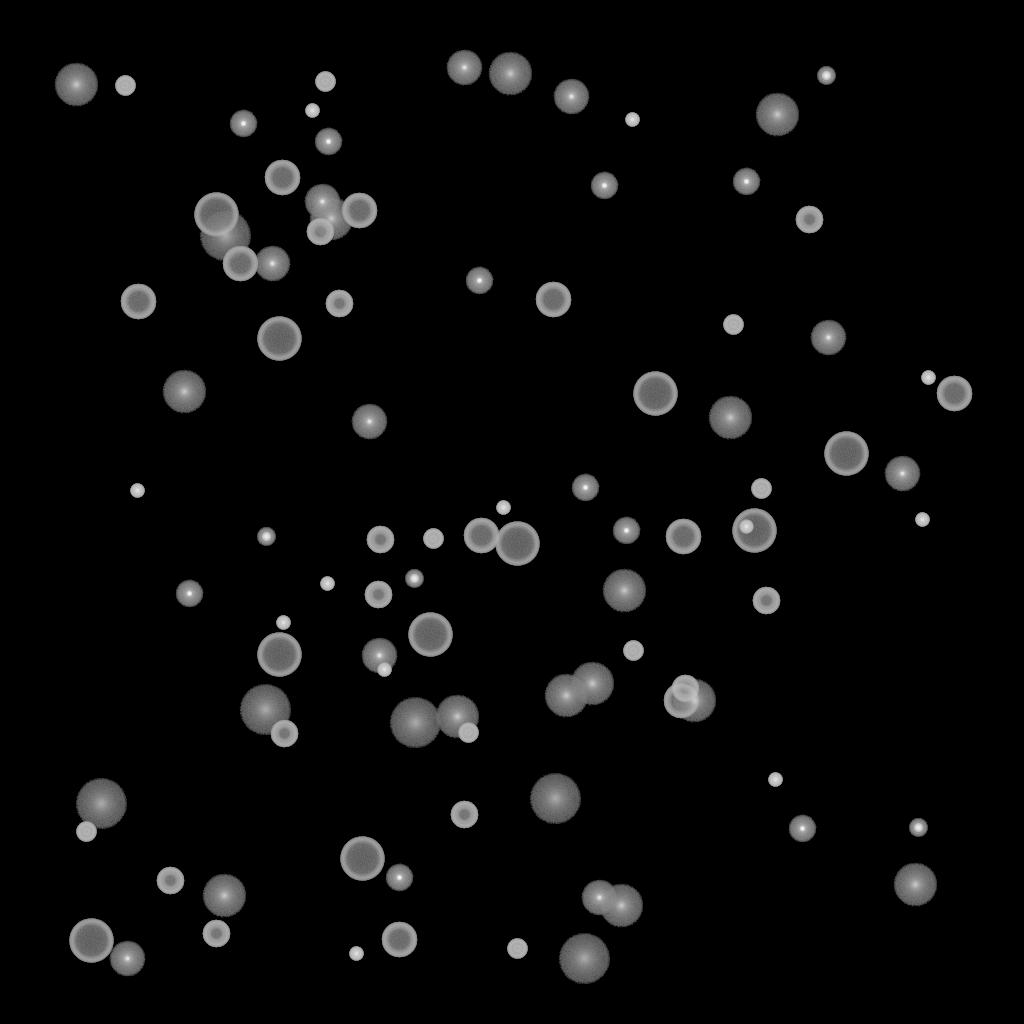depth:-10: (732, 168, 760, 196), (571, 474, 599, 502), (590, 172, 618, 200), (175, 580, 203, 608), (385, 864, 413, 892), (465, 267, 493, 295), (612, 517, 640, 545), (788, 815, 816, 843), (314, 128, 342, 156), (229, 110, 257, 138)
depth:-20: (405, 570, 423, 588), (909, 819, 927, 837), (817, 67, 835, 85), (257, 528, 275, 546)
depth:-30: (276, 616, 290, 630), (921, 371, 935, 385), (768, 773, 782, 787), (130, 484, 144, 498), (320, 577, 334, 591), (625, 113, 639, 127), (377, 663, 391, 677), (915, 513, 929, 527), (349, 947, 363, 961), (496, 501, 510, 515), (739, 520, 753, 534), (305, 104, 319, 118)
depth:-40: (423, 529, 443, 549), (751, 479, 771, 499), (458, 723, 478, 743), (507, 939, 527, 959), (115, 76, 135, 96), (315, 72, 335, 92), (76, 822, 96, 842), (623, 641, 643, 661), (723, 315, 743, 335)
depth:-50: (671, 675, 699, 703), (450, 801, 478, 829), (156, 867, 184, 895), (325, 290, 353, 318), (202, 920, 230, 948), (366, 526, 394, 554), (752, 587, 780, 615), (270, 720, 298, 748), (364, 581, 392, 609), (795, 206, 823, 234), (306, 218, 334, 246)
depth:-60: (381, 922, 417, 958), (120, 284, 156, 320), (665, 519, 701, 555), (535, 282, 571, 318), (663, 683, 699, 719), (341, 193, 377, 229), (222, 246, 258, 282), (936, 376, 972, 412), (264, 160, 300, 196), (463, 518, 499, 554)
depth:-70: (194, 193, 238, 237), (495, 522, 539, 566), (69, 919, 113, 963), (340, 837, 384, 881), (257, 633, 301, 677), (824, 432, 868, 476), (257, 317, 301, 361), (732, 509, 776, 553), (633, 372, 677, 416), (408, 613, 452, 657)
depth:0: (254, 246, 290, 282), (351, 404, 387, 440), (446, 50, 482, 86), (553, 79, 589, 115), (810, 320, 846, 356), (109, 941, 145, 977), (884, 456, 920, 492), (304, 184, 340, 220), (361, 638, 397, 674), (581, 880, 617, 916)
depth:10: (599, 884, 643, 928), (602, 569, 646, 613), (488, 52, 532, 96), (435, 695, 479, 739), (544, 674, 588, 718), (672, 679, 716, 723), (570, 662, 614, 706), (202, 874, 246, 918), (162, 370, 206, 414), (755, 93, 799, 137), (893, 863, 937, 907), (54, 63, 98, 107), (309, 197, 353, 241), (708, 396, 752, 440)
depth:20: (389, 698, 441, 748), (558, 934, 610, 984), (529, 774, 581, 824), (75, 779, 127, 829), (239, 685, 291, 735), (199, 211, 251, 261)
